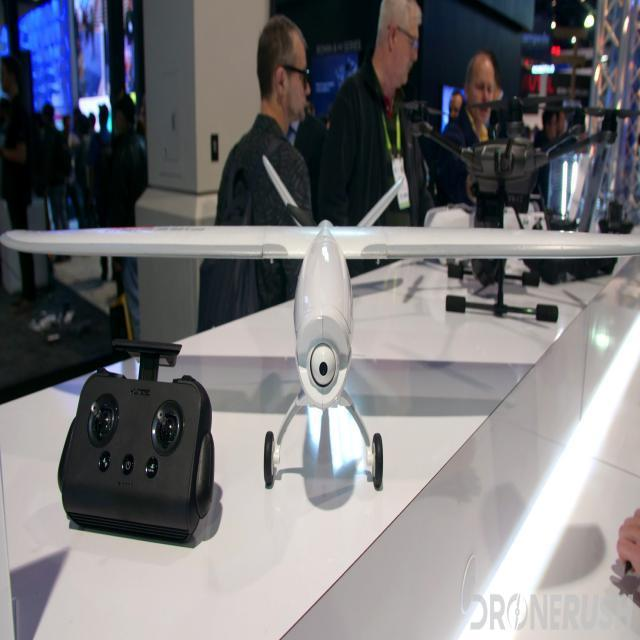plane: (0, 151, 640, 491)
